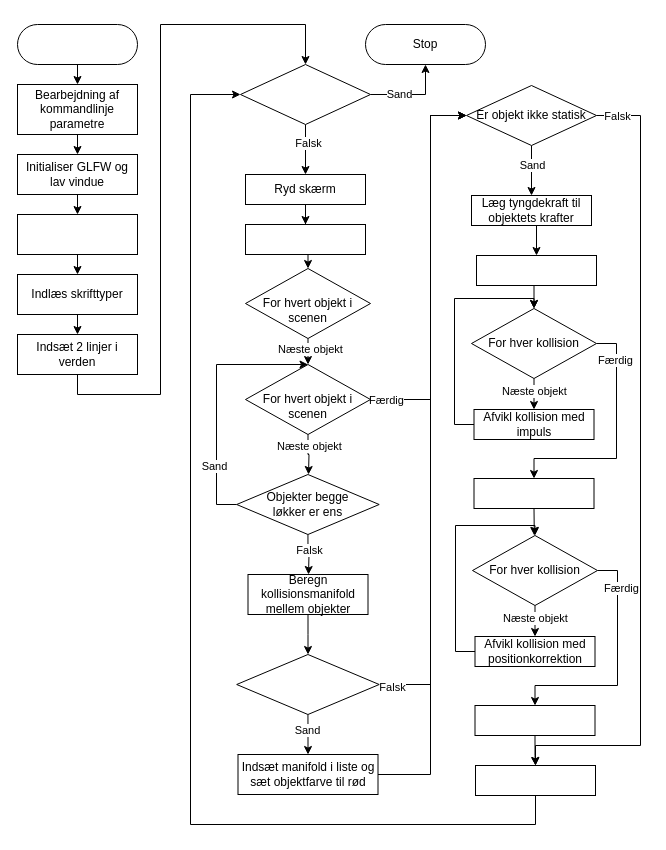
This 666x850 diagram has some shape labels left out. Each missing label, with the centre of its shape:
Forbered ImGui: pixel 305 239
Hvis der var kollision: pixel 307 684
Initialiser ImGui og NanoVG: pixel 77 234
Ryd krafter: pixel 534 720
Start: pixel 77 44
Tegn skærm: pixel 535 780
Vindue bør lukke: pixel 305 94
Ændre hastighed ud fra krafter: pixel 536 270
Ændre position ud fra hastighed: pixel 533 493
